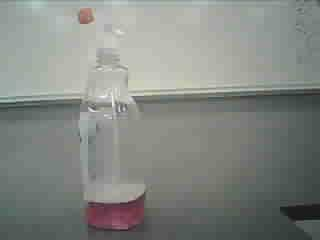hazard: (65, 5, 167, 240)
